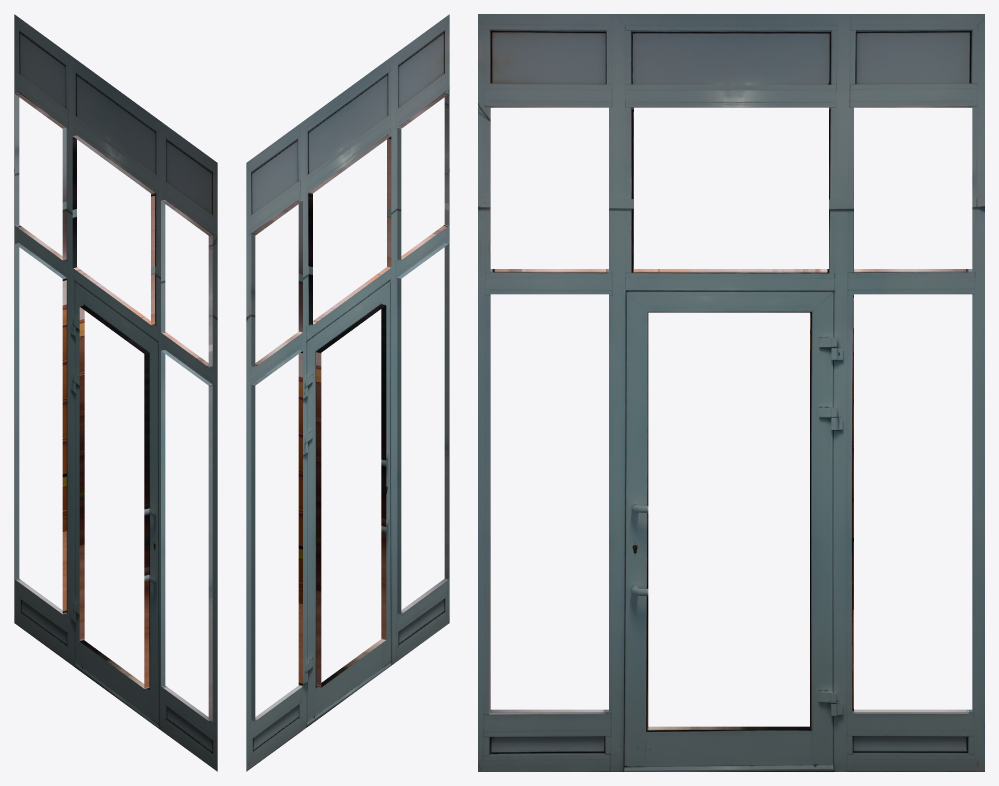
File: kor_arch1.glb
3 views of the same model, side by side, from view 1: azimuth 30°, elevation 25°; view 2: azimuth 150°, elevation 25°; view 3: azimuth 270°, elevation 25° (orthographic). The views are drawn at different scales.
Parts seen in each view (by area): view 1: 1; view 2: 1; view 3: 1.
Part boxes in pixels (left/top/right/bottom): 1: left=14, top=14, right=217, bottom=771; 1: left=246, top=14, right=449, bottom=771; 1: left=478, top=14, right=984, bottom=771.
Size of the model in its own units: 0.0276 by 3.3 by 2.
1 material, 1 textured.
